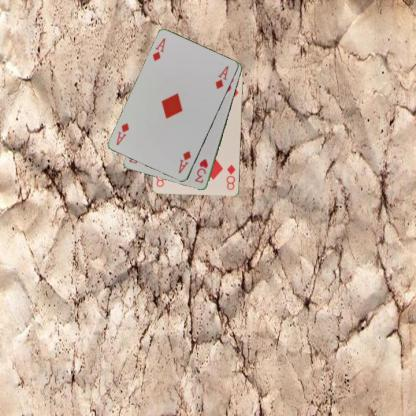3h: (192, 156, 210, 184)
8d: (223, 162, 237, 191)
Ad: (150, 36, 167, 62), (176, 149, 192, 175)
